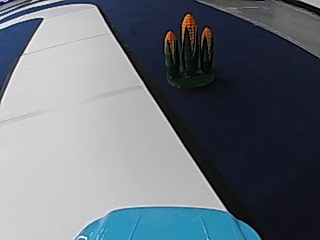corn: (161, 10, 216, 87)
